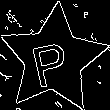P_N: (30, 30, 77, 88)
